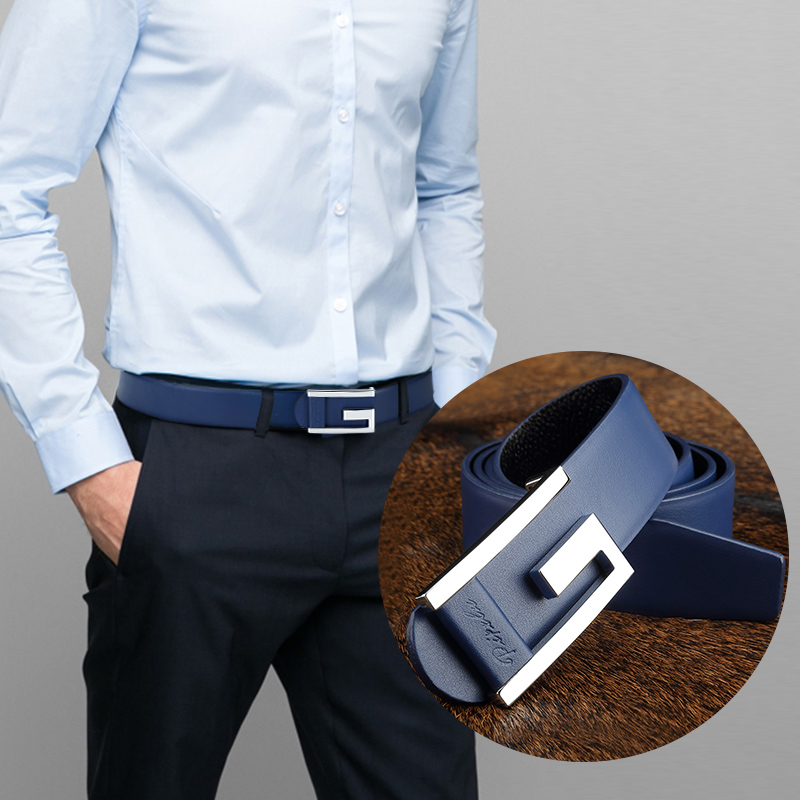F_belt: (91, 345, 435, 434)
F_shirt: (5, 1, 479, 507)
